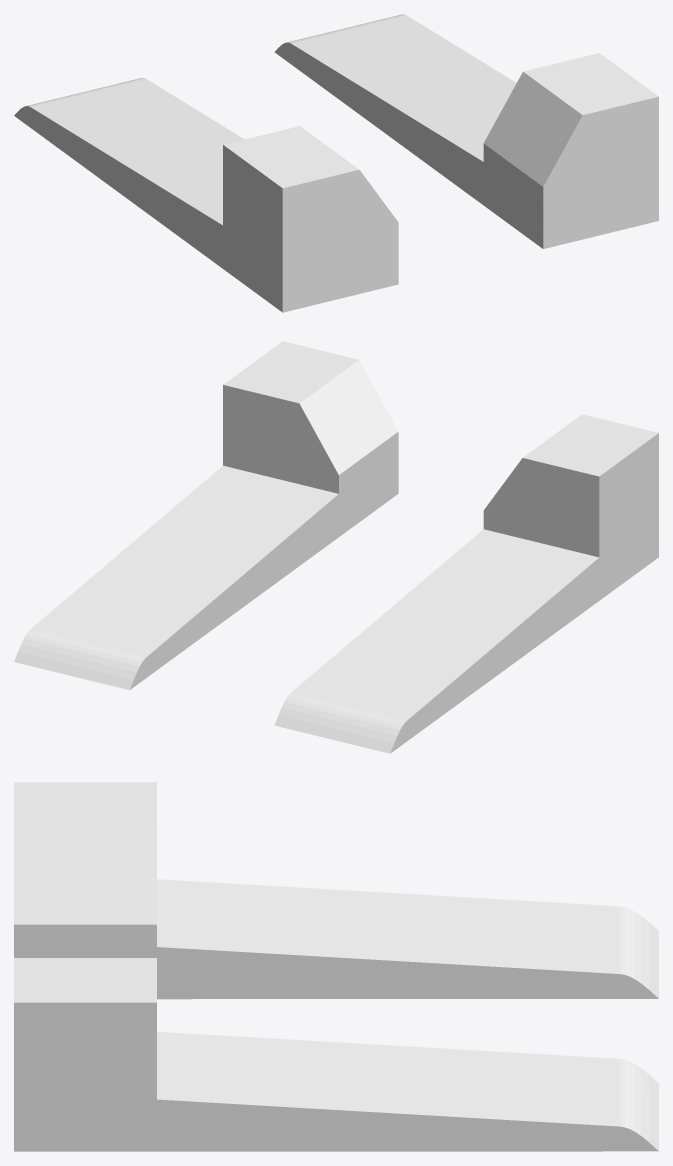
The model's file is Scope.FBX.
3 views of the same model, one above another, from view 1: azimuth 30°, elevation 25°; view 2: azimuth 150°, elevation 25°; view 3: azimuth 270°, elevation 25° (orthographic). The views are drawn at different scales.
Parts seen in each view (by area): view 1: Scope; view 2: Scope; view 3: Scope.
Boxes of the visible parts, x1,y1,x2,y2 form: Scope: (14, 14, 658, 312); Scope: (14, 341, 658, 753); Scope: (14, 782, 658, 1151).
Bounding box in the file's own units: 1.02 × 0.3233 × 1.27.
Materials: 1 (1 with a texture image).
